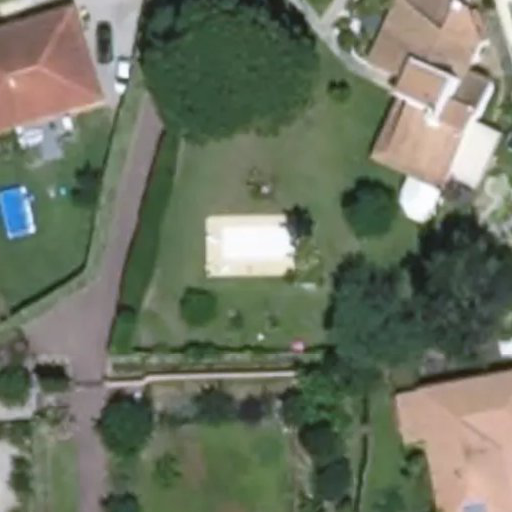pool: (222, 226, 289, 256)
